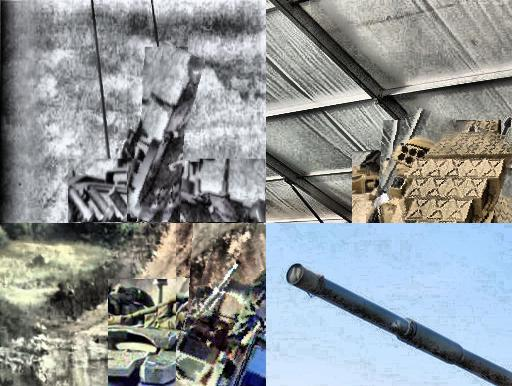tanks: (288, 266, 512, 386), (368, 137, 512, 224), (129, 61, 205, 223), (178, 268, 267, 386)
